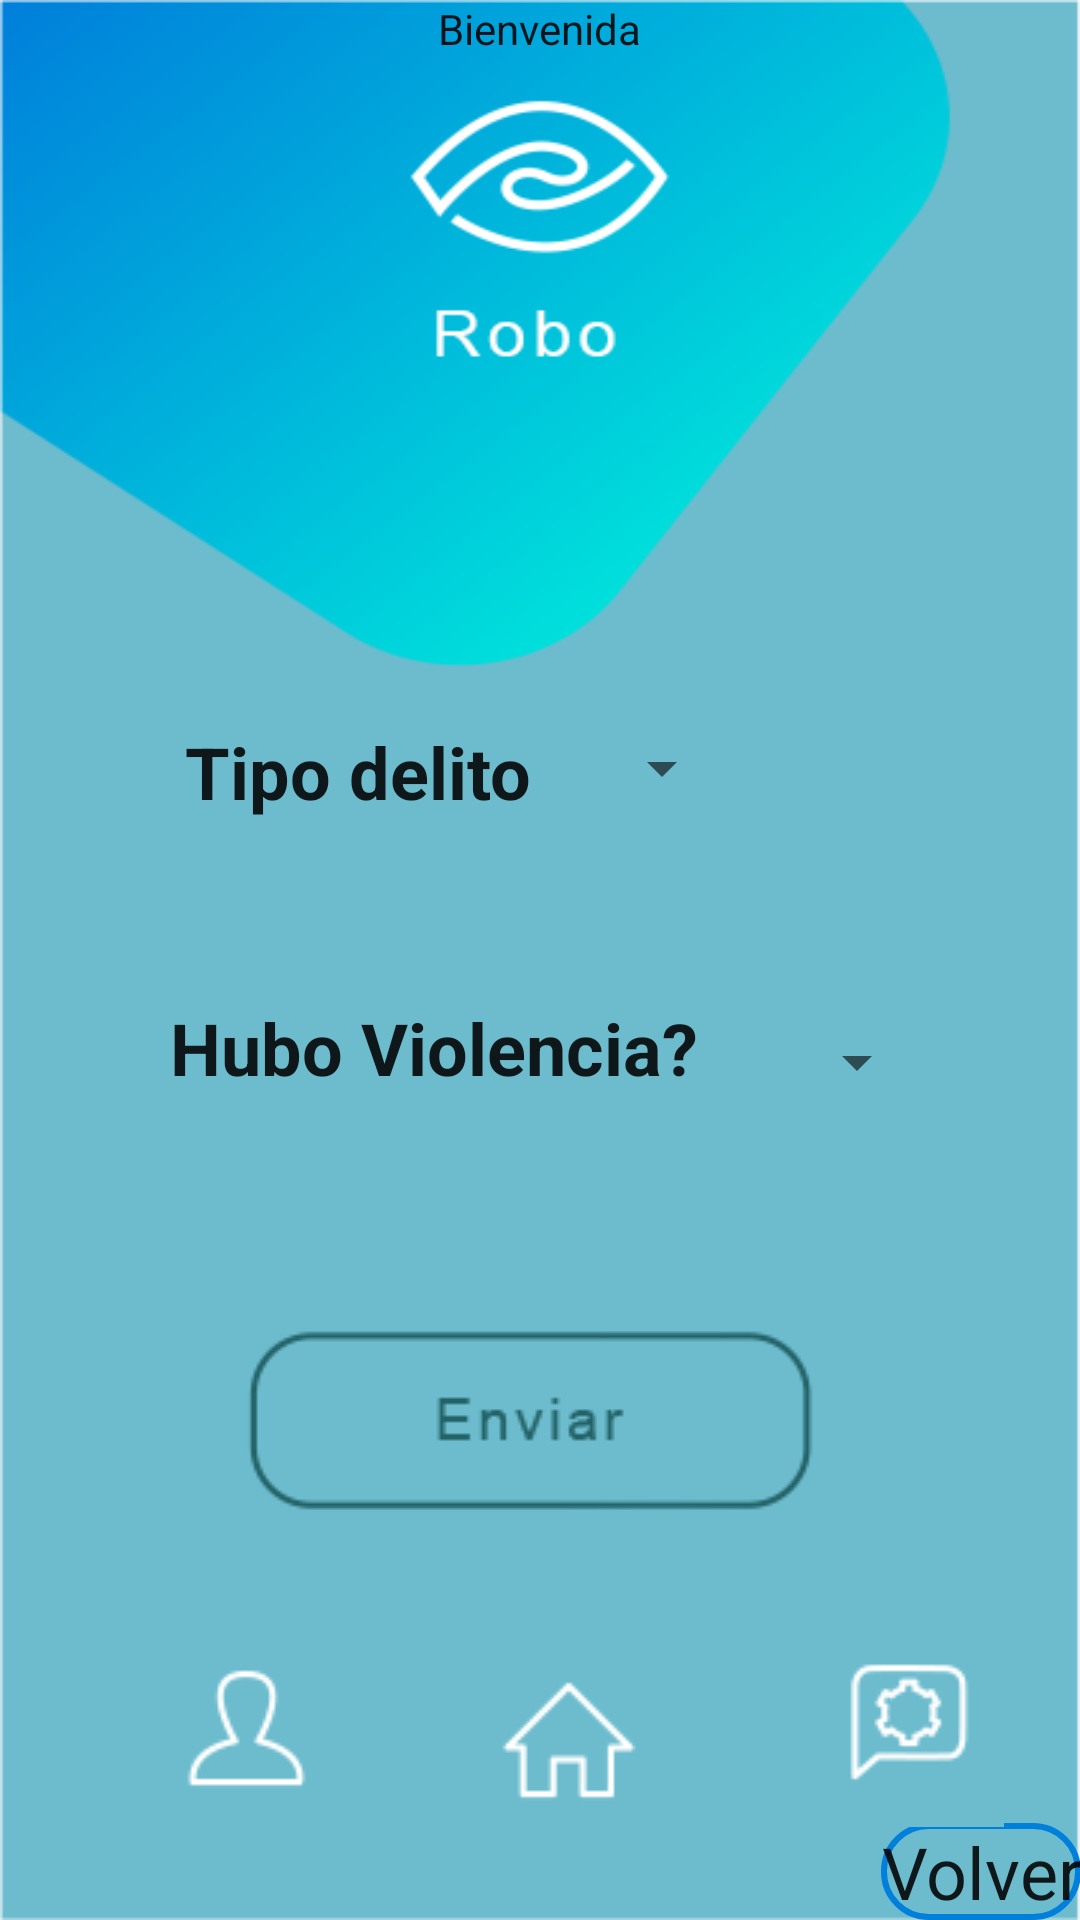

Where to tap for icons on this 1080×1920 app screen, as (x=x, y=y):
menuprincipal inicio: (x=569, y=1740)
menuprincipal perfil: (x=246, y=1728)
